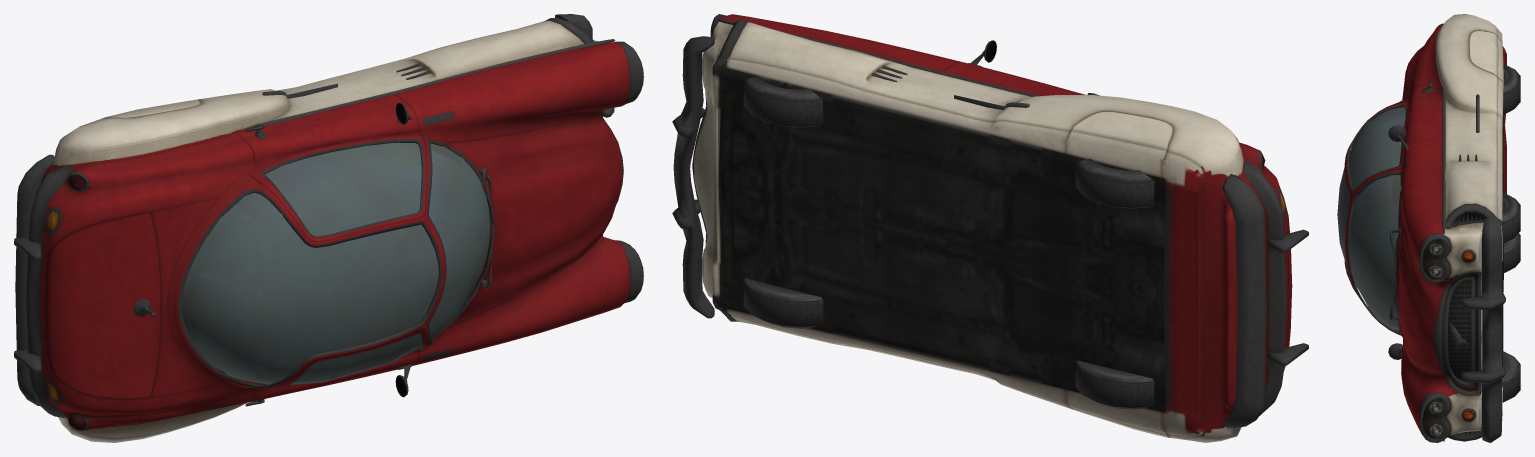
The model's file is nt_2020_car_02_LOD0.obj.
3 renders of one model, left to right at view 1: azimuth 30°, elevation 25°; view 2: azimuth 150°, elevation 25°; view 3: azimuth 270°, elevation 25°, orthographic. The views are drawn at different scales.
Visible parts, largest first — view 1: mtl_nt_2020_car_02_exterior, com_glass_clear; view 2: mtl_nt_2020_car_02_exterior; view 3: mtl_nt_2020_car_02_exterior, com_glass_clear.
Boxes of the visible parts, x1,y1,x2,y2 form: mtl_nt_2020_car_02_exterior: (14,14,643,442); com_glass_clear: (181,142,490,384); mtl_nt_2020_car_02_exterior: (672,14,1308,442); mtl_nt_2020_car_02_exterior: (1344,14,1520,442); com_glass_clear: (1337,107,1405,330).
Size of the model in its own units: 504 by 247 by 167.
